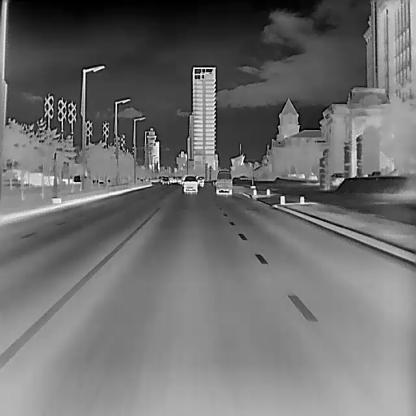car: (215, 169, 232, 195), (182, 174, 197, 192), (161, 176, 169, 184), (197, 174, 203, 184)
